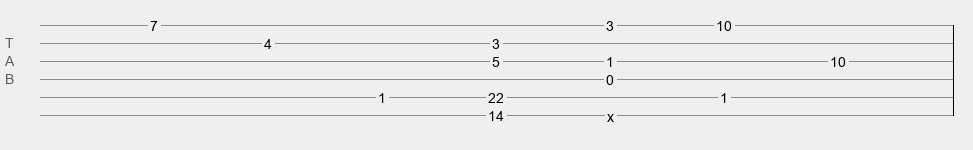0: (606, 72, 614, 82)
1: (378, 90, 386, 100), (606, 54, 614, 64), (720, 90, 728, 100)
10: (716, 18, 732, 28), (830, 54, 846, 64)
14: (488, 108, 504, 118)
22: (488, 90, 504, 100)
3: (492, 36, 500, 46), (606, 18, 614, 28)
4: (264, 36, 272, 46)
5: (492, 54, 500, 64)
7: (150, 18, 158, 28)
x: (607, 109, 614, 117)
